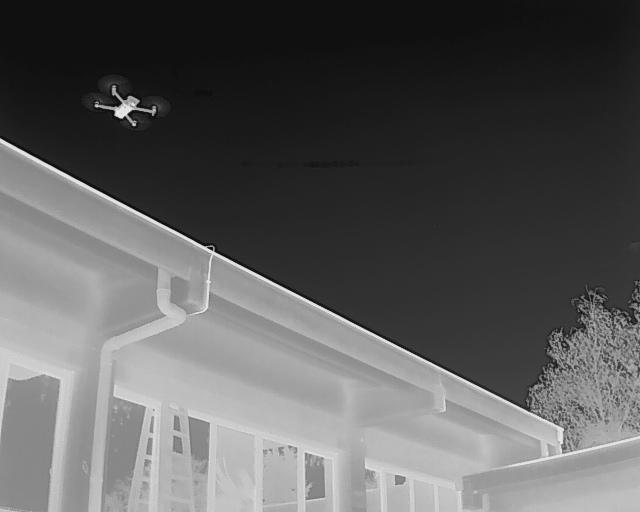drone: (77, 71, 173, 134)
